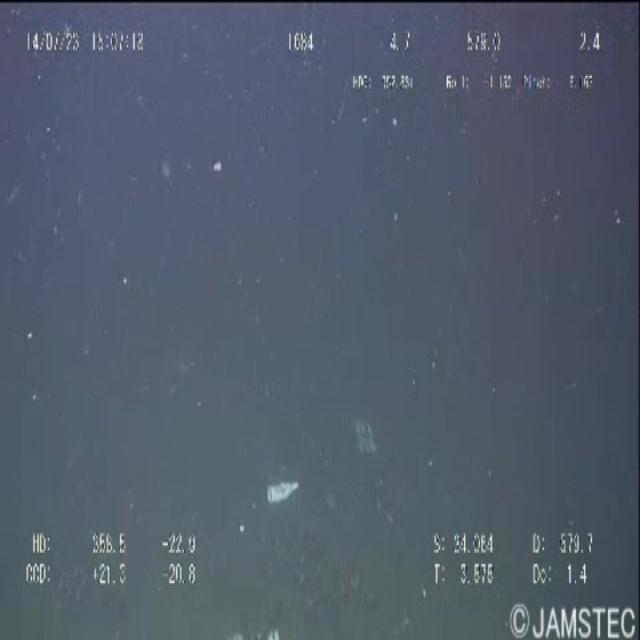Glass: (260, 448, 308, 511)
